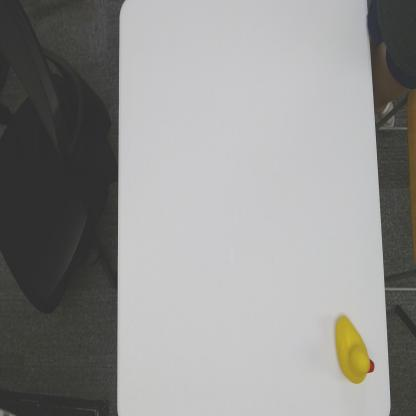Duck: (332, 311, 376, 387)
